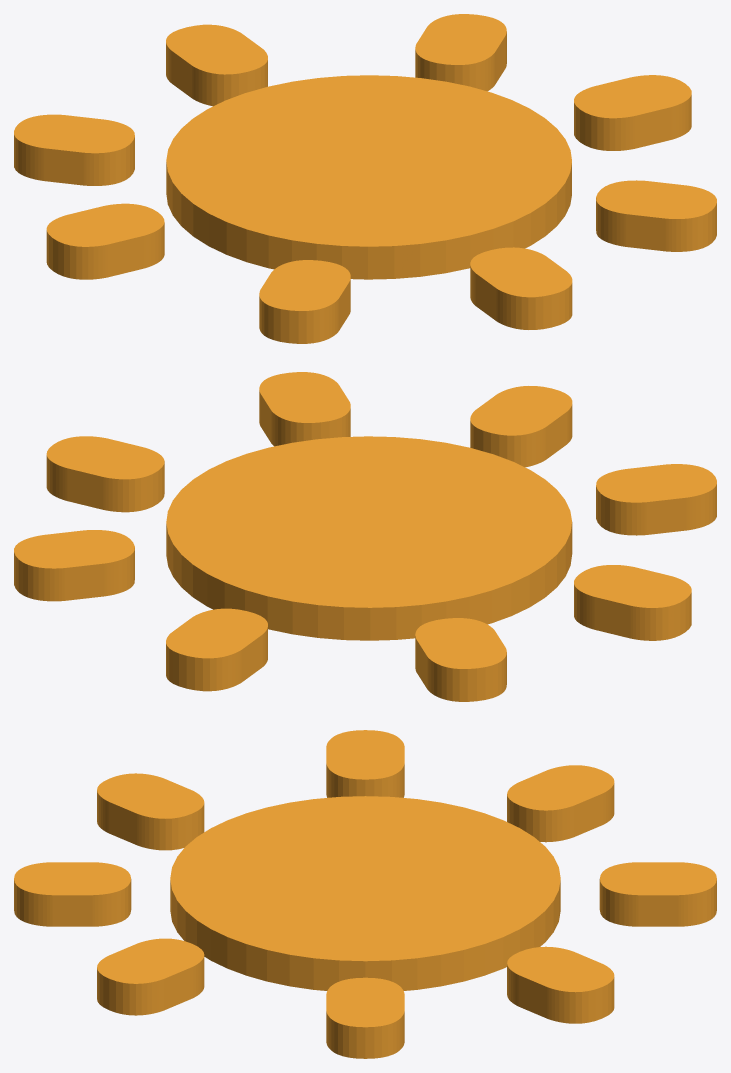
The model's file is sunny.gltf.
3 renders of one model, top to bottom at view 1: azimuth 30°, elevation 25°; view 2: azimuth 150°, elevation 25°; view 3: azimuth 270°, elevation 25°, orthographic. The views are drawn at different scales.
Parts seen in each view (by area): view 1: Curve.001, Curve; view 2: Curve.001, Curve; view 3: Curve.001, Curve.
Boxes of the visible parts, <box> form: Curve.001: <box>166,75,571,279</box>; Curve: <box>14,14,716,343</box>; Curve.001: <box>166,436,572,640</box>; Curve: <box>14,372,716,701</box>; Curve.001: <box>170,796,560,990</box>; Curve: <box>14,730,716,1058</box>.
Bounding box in the file's own units: 2.01 × 0.1 × 2.01.
